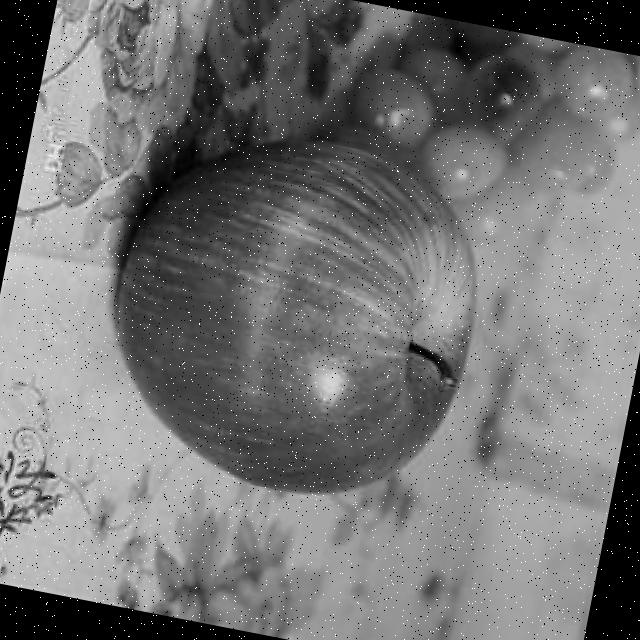apple: (84, 100, 506, 518)
